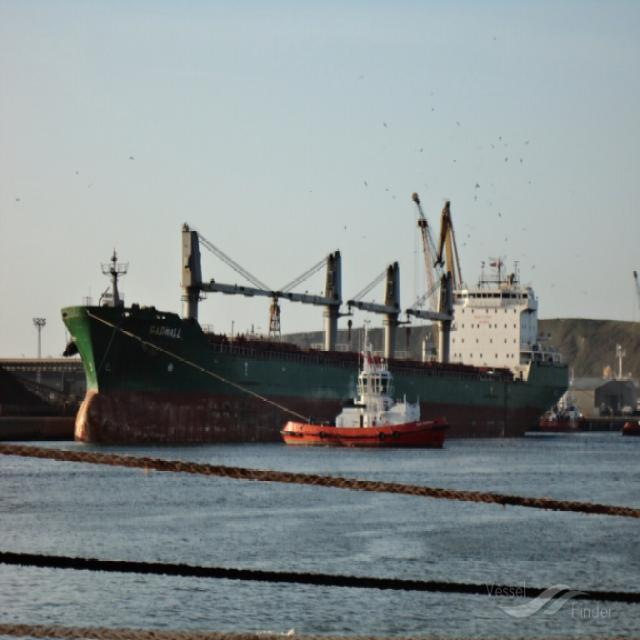OCR: (142, 319, 188, 352)
